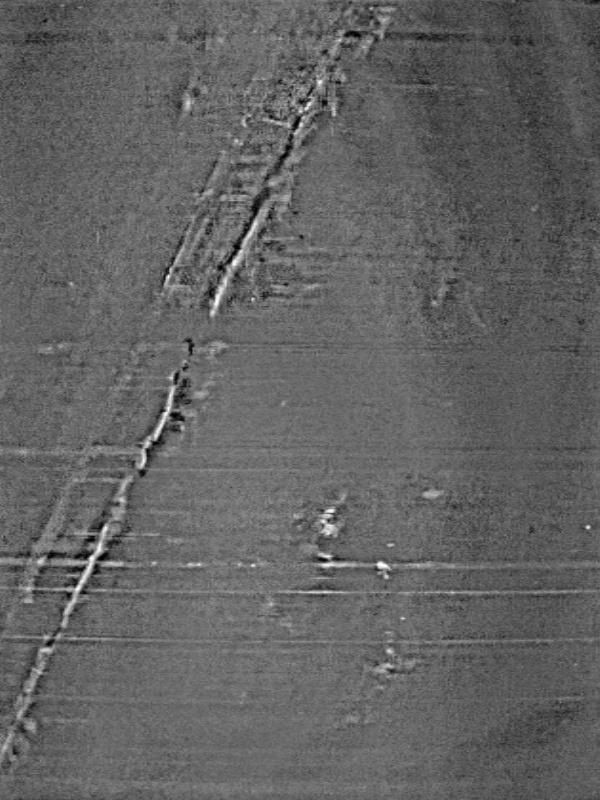splice_vulcanized: (1, 3, 397, 767)
